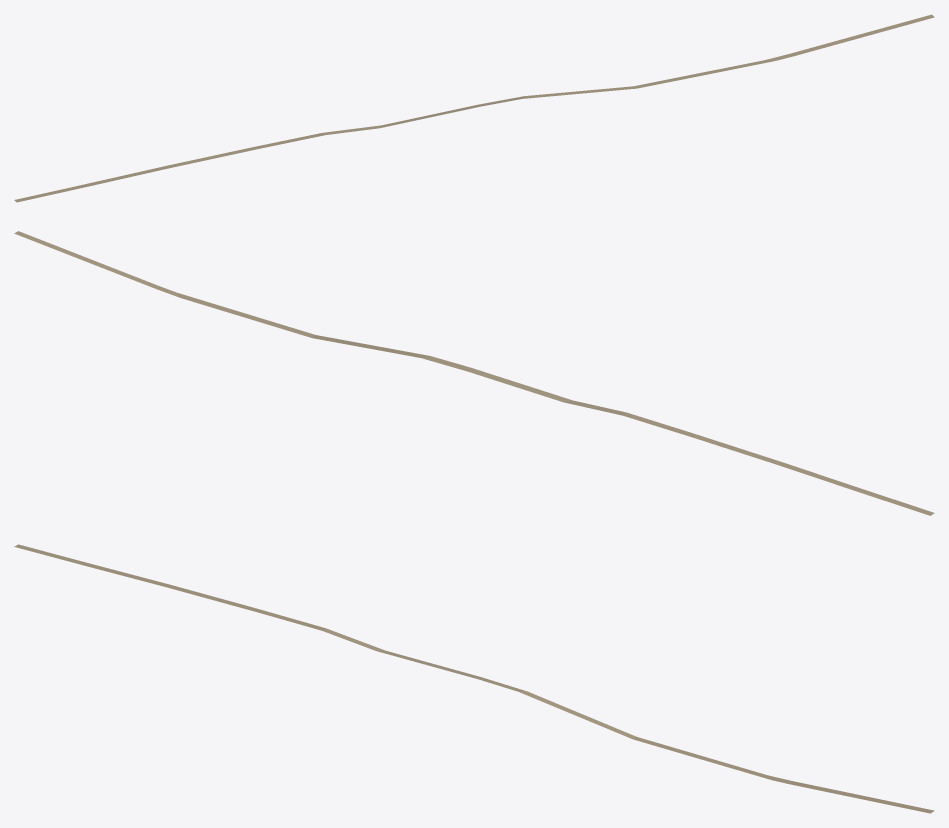
Rendered from farm_-35_-29_track.glb.
3 renders of one model, top to bottom at view 1: azimuth 30°, elevation 25°; view 2: azimuth 150°, elevation 25°; view 3: azimuth 330°, elevation 25°, orthographic. The views are drawn at different scales.
Parts seen in each view (by area): view 1: geometry_0; view 2: geometry_0; view 3: geometry_0.
Boxes of the visible parts, x1=… form: geometry_0: x1=14, y1=14, x2=934, y2=202; geometry_0: x1=14, y1=231, x2=934, y2=515; geometry_0: x1=14, y1=544, x2=934, y2=813.
Size of the model in its own units: 472 by 7.35 by 47.11.
